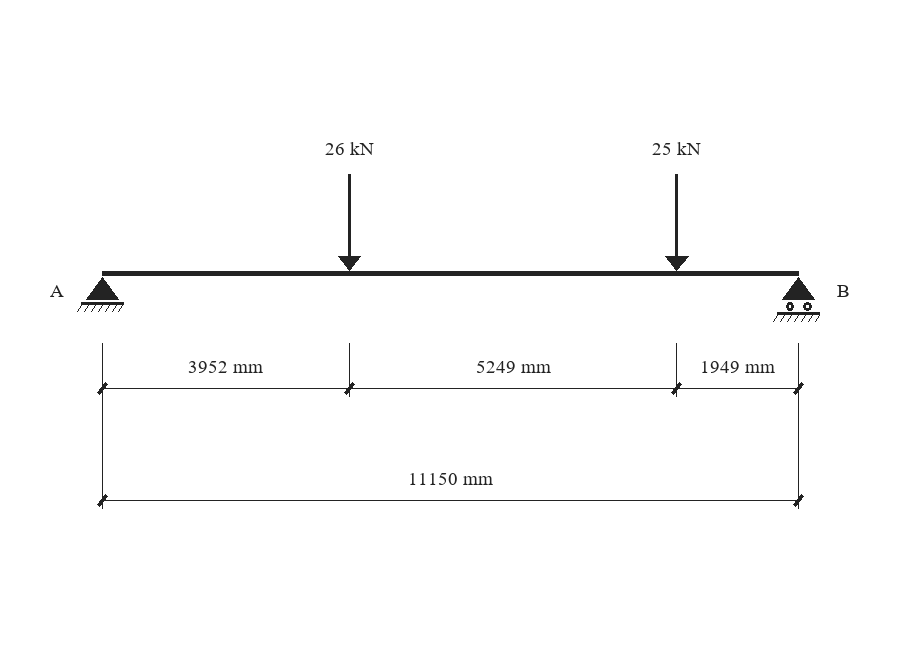pin_support: (77, 277, 124, 312)
point_load: (665, 174, 689, 271), (338, 174, 361, 271)
roller_support: (773, 277, 820, 322)
